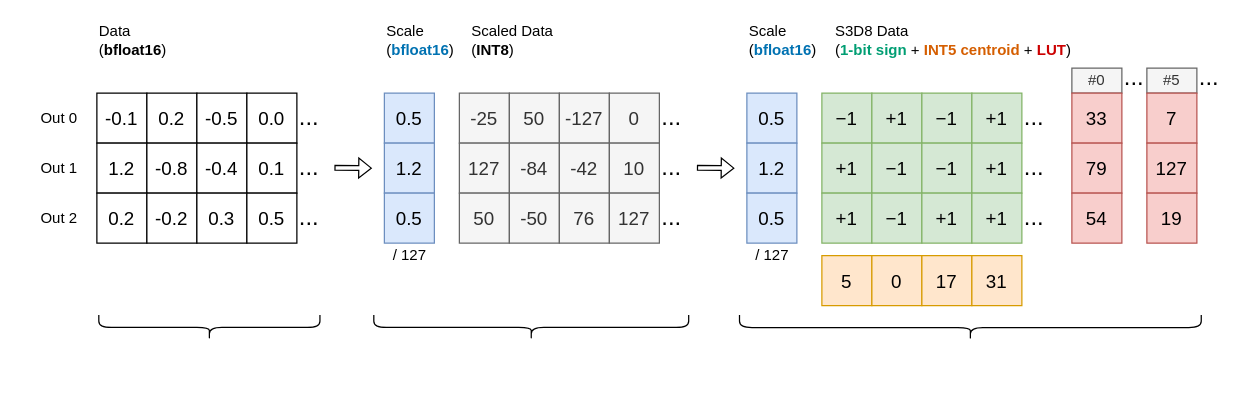
The diagram is 1243 pixels wide and 394 high, and some of its shapes have lost their labels. Here are the shapes that lost their labels. From the top down, the centre of each, then its label:
(209,327): bfloat16
(531,327): Channel-INT8
(969,327): S3D8
